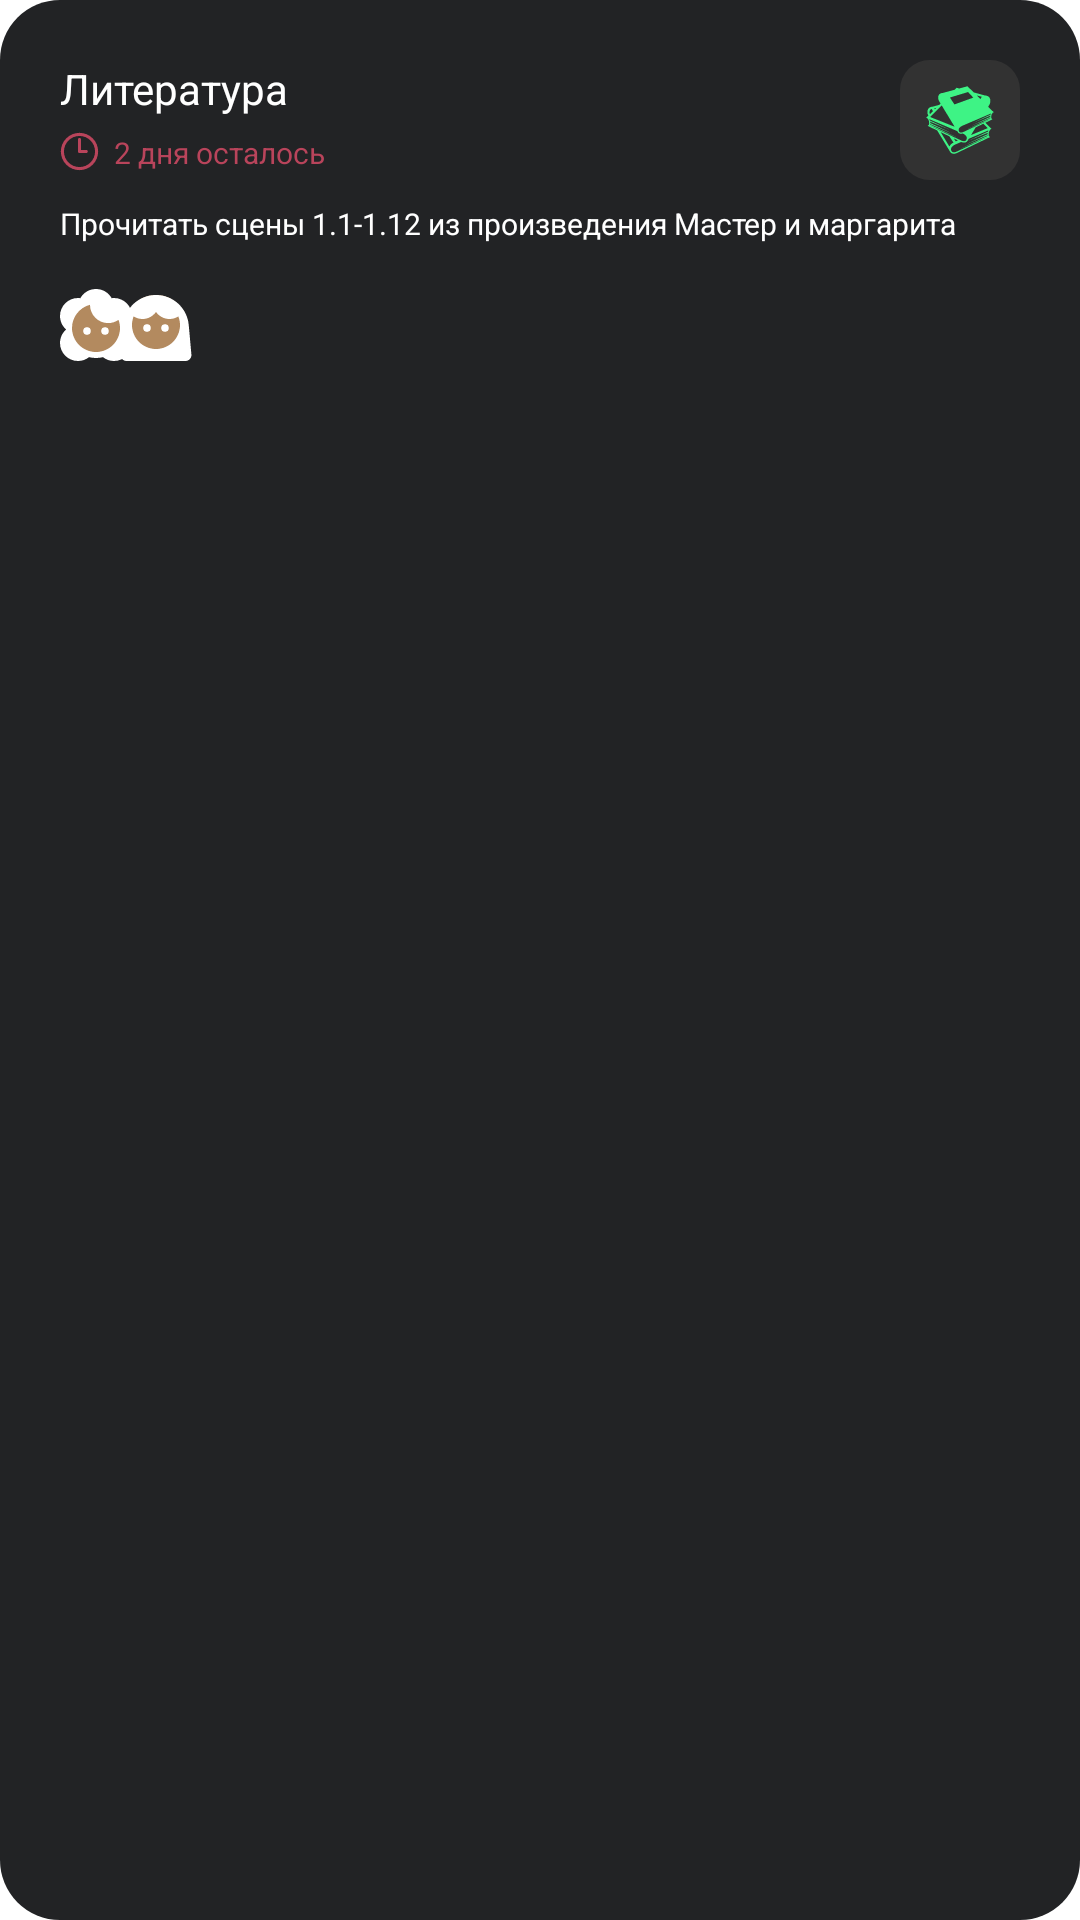

Icon bounding boxes for this 1080*1920 phone screenshot, format (x1, y1, x2, y2):
books: (926, 86, 994, 154)
clock: (60, 132, 98, 170)
